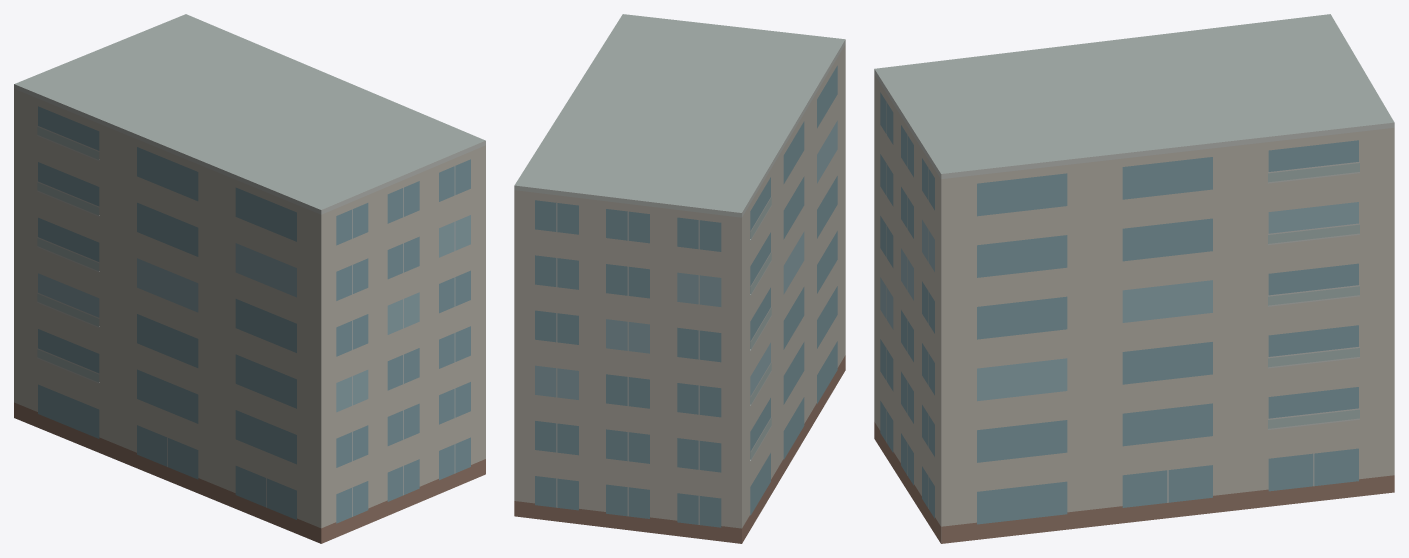
The model's file is survey-upis-32562716.glb.
The picture shows the model from 3 angles, left to right: view 1: azimuth 30°, elevation 25°; view 2: azimuth 150°, elevation 25°; view 3: azimuth 270°, elevation 25°; orthographic projection. The views are drawn at different scales.
Parts seen in each view (by area): view 1: survey-upis-32562716.tmp; view 2: survey-upis-32562716.tmp; view 3: survey-upis-32562716.tmp.
Part boxes in pixels (bbox=[...]): survey-upis-32562716.tmp: bbox=[14, 14, 485, 543]; survey-upis-32562716.tmp: bbox=[514, 14, 845, 543]; survey-upis-32562716.tmp: bbox=[874, 14, 1394, 543].
Bounding box in the file's own units: 16.15 × 17.4 × 22.19.
